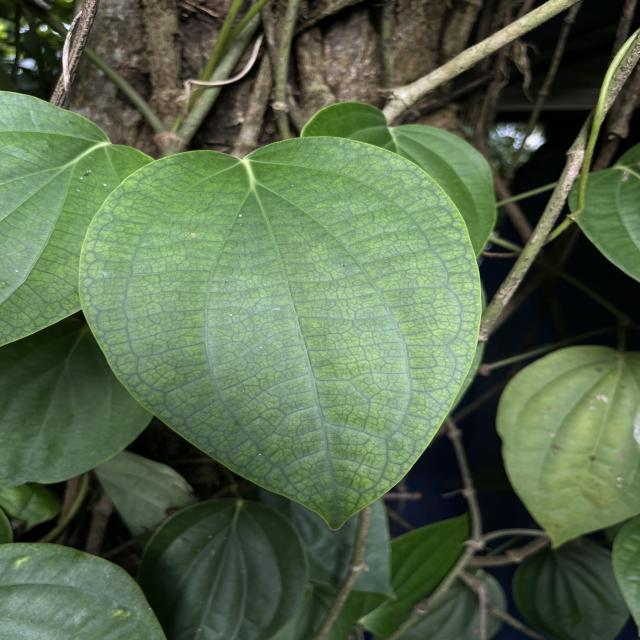Piper nigrum: (70, 129, 493, 534)
